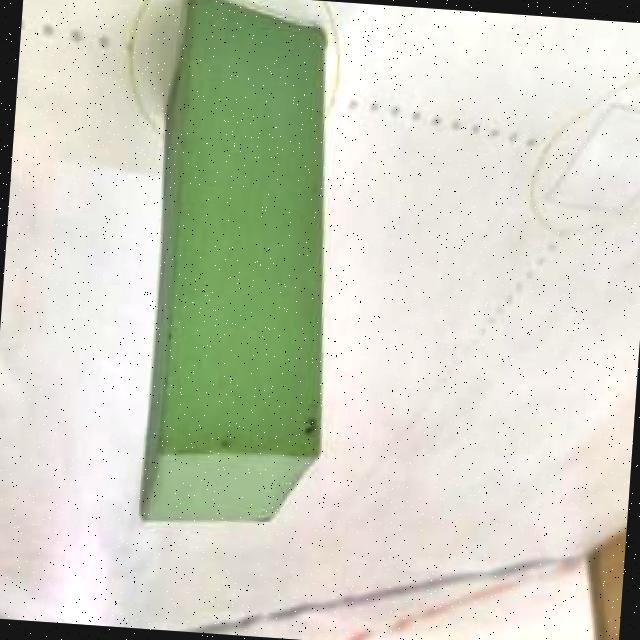greenbox: (136, 0, 351, 537)
